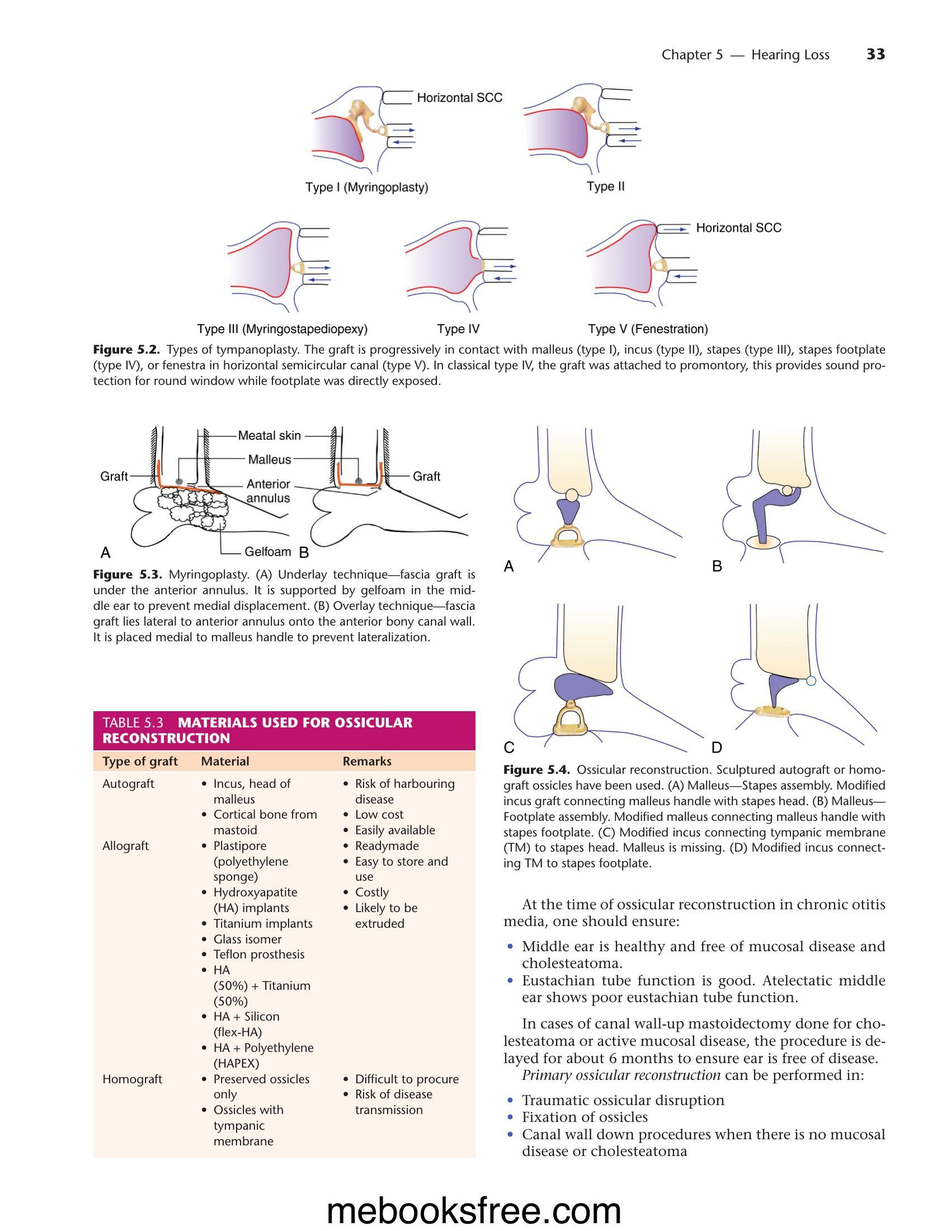caption: (502, 764, 886, 873), (92, 343, 886, 388), (92, 568, 476, 645), (100, 716, 414, 745), (501, 559, 516, 573), (99, 545, 112, 560), (711, 739, 724, 754), (503, 740, 516, 754), (711, 558, 723, 573), (298, 545, 310, 559)
header: (661, 48, 830, 64)
image: (190, 72, 794, 341), (92, 416, 475, 566), (495, 597, 704, 759), (703, 416, 898, 577), (496, 416, 689, 578), (707, 597, 896, 759)
list: (506, 939, 886, 1007), (505, 1092, 887, 1159)
table: (92, 750, 477, 1160)
text: (503, 1016, 888, 1084), (502, 897, 888, 929)
